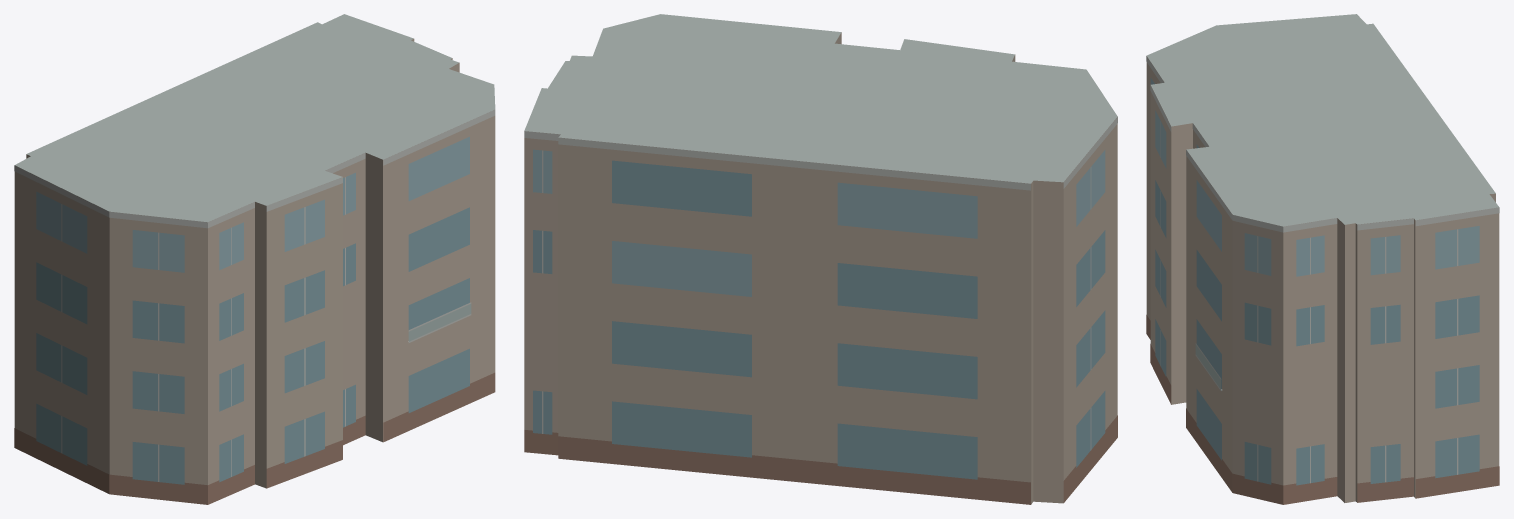
Rendered from survey-upis-32541569.glb.
The picture shows the model from 3 angles, left to right: view 1: azimuth 30°, elevation 25°; view 2: azimuth 150°, elevation 25°; view 3: azimuth 270°, elevation 25°; orthographic projection. The views are drawn at different scales.
Parts seen in each view (by area): view 1: survey-upis-32541569.tmp; view 2: survey-upis-32541569.tmp; view 3: survey-upis-32541569.tmp.
Boxes of the visible parts, x1,y1,x2,y2 form: survey-upis-32541569.tmp: (14, 14, 495, 504); survey-upis-32541569.tmp: (524, 14, 1117, 504); survey-upis-32541569.tmp: (1146, 14, 1499, 504).
Size of the model in its own units: 18.61 by 11.35 by 13.06.
